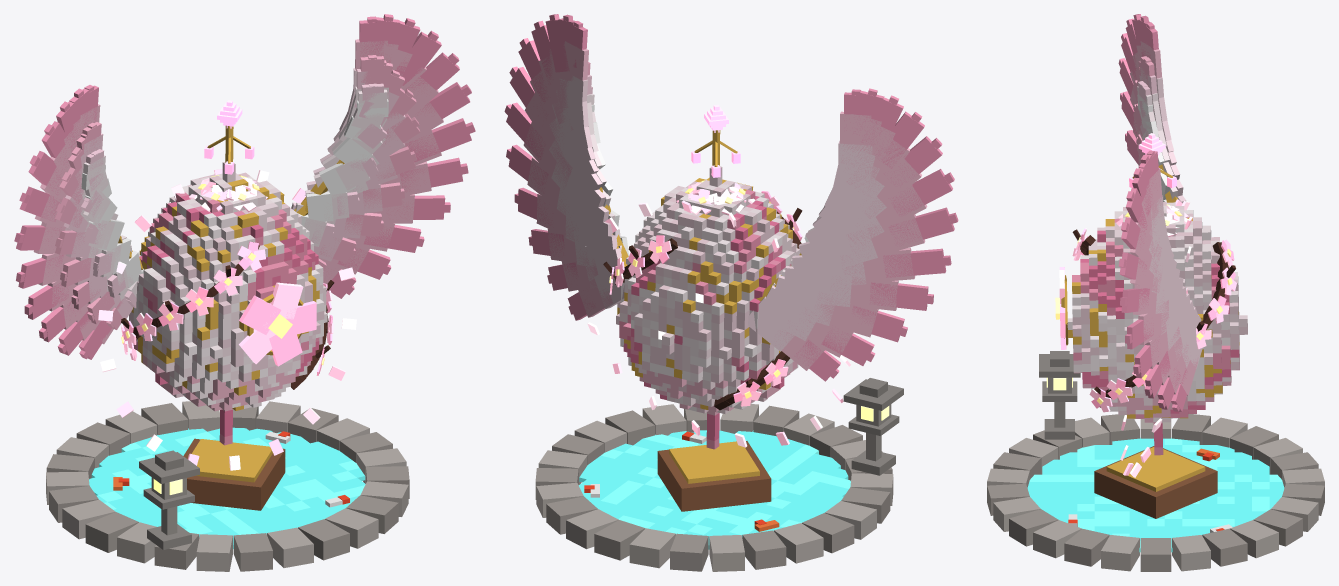
File: egg_sakura.glb
3 renders of one model, left to right at view 1: azimuth 30°, elevation 25°; view 2: azimuth 150°, elevation 25°; view 3: azimuth 270°, elevation 25°, orthographic. The views are drawn at different scales.
Visible parts, largest first — view 1: root_geo, shell_geo, wing_L_geo, wing_R_geo, emblem_geo, egg_geo, petal_ring_geo, crown_geo; view 2: root_geo, wing_R_geo, shell_geo, wing_L_geo, egg_geo, crown_geo, petal_ring_geo; view 3: root_geo, shell_geo, wing_L_geo, wing_R_geo, egg_geo, crown_geo, emblem_geo, petal_ring_geo.
Part boxes in pixels (box(x1,y1,x2,y2)): root_geo: box(46, 401, 409, 571); shell_geo: box(129, 162, 327, 445); wing_L_geo: box(291, 14, 475, 298); wing_R_geo: box(14, 85, 143, 359); emblem_geo: box(239, 282, 316, 366); egg_geo: box(121, 241, 334, 389); petal_ring_geo: box(98, 169, 356, 470); crown_geo: box(189, 100, 267, 212); root_geo: box(535, 378, 903, 571); wing_R_geo: box(748, 88, 958, 381); shell_geo: box(616, 166, 800, 449); wing_L_geo: box(504, 14, 628, 320); egg_geo: box(603, 191, 802, 410); crown_geo: box(676, 104, 755, 215); petal_ring_geo: box(585, 200, 850, 447); root_geo: box(987, 351, 1324, 571); shell_geo: box(1067, 202, 1247, 455); wing_L_geo: box(1118, 150, 1202, 411); wing_R_geo: box(1118, 14, 1186, 203); egg_geo: box(1072, 228, 1236, 412); crown_geo: box(1116, 133, 1188, 236); emblem_geo: box(1055, 267, 1068, 349); petal_ring_geo: box(1120, 199, 1192, 477).
Bounding box in the file's own units: 11.29 × 10.47 × 7.73.
